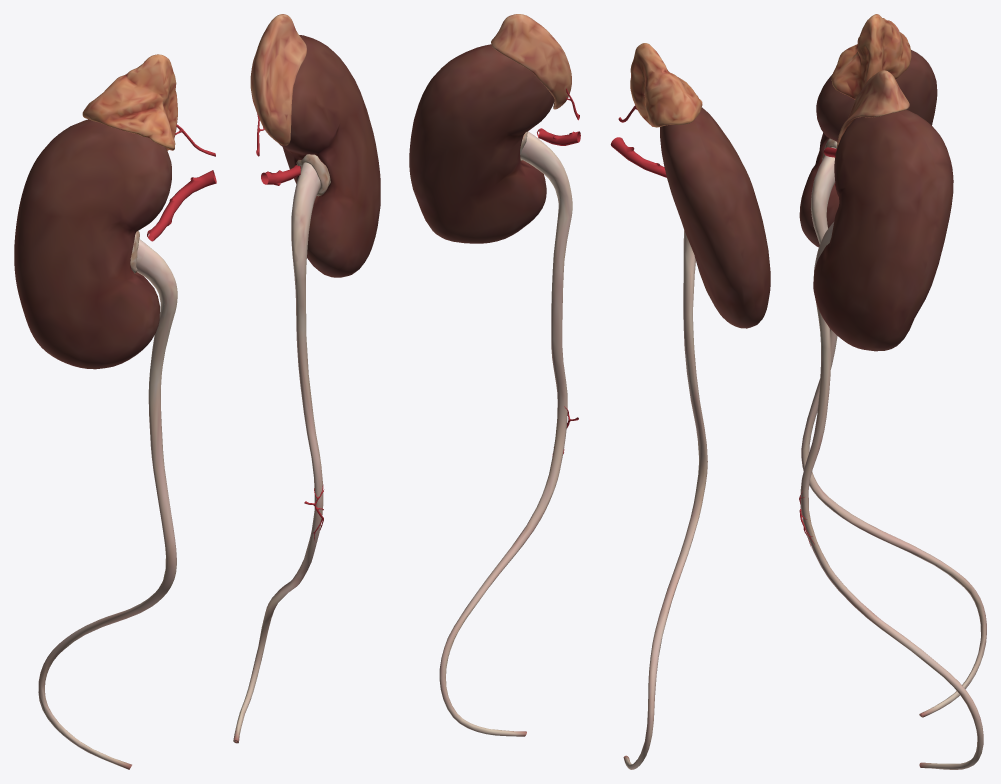
Rendered from kidney_cancer.glb.
The picture shows the model from 3 angles, left to right: view 1: azimuth 30°, elevation 25°; view 2: azimuth 150°, elevation 25°; view 3: azimuth 270°, elevation 25°; orthographic projection. The views are drawn at different scales.
Visible parts, largest first — view 1: Fibrous Capsule of Kidney (Anterior; Right) [S05095], Fibrous Capsule of Kidney (Anterior; Left) [S05074], Suprarenal Gland (Right) [S01629], Ureter (Right) [S05059], Suprarenal Gland (Left) [S01630], Ureter (Left) [S05103], Fibrous Capsule of Kidney (Posterior; Left) [S05075], Renal Pelvis (Anterior Part; Left) [S05068], Renal Pelvis (Anterior Part; Right) [S05083], Renal Artery (Right) [S03962], Fibrous Capsule of Kidney (Posterior; Right) [S05099]; view 2: Fibrous Capsule of Kidney (Posterior; Left) [S05075], Fibrous Capsule of Kidney (Posterior; Right) [S05099], Ureter (Left) [S05103], Fibrous Capsule of Kidney (Anterior; Right) [S05095], Ureter (Right) [S05059], Suprarenal Gland (Right) [S01629], Suprarenal Gland (Left) [S01630], Renal Pelvis (Posterior Part; Left) [S05065], Renal Artery (Right) [S03962]; view 3: Fibrous Capsule of Kidney (Anterior; Left) [S05074], Ureter (Left) [S05103], Fibrous Capsule of Kidney (Posterior; Right) [S05099], Suprarenal Gland (Right) [S01629], Ureter (Right) [S05059], Fibrous Capsule of Kidney (Posterior; Left) [S05075], Suprarenal Gland (Left) [S01630], Renal Pelvis (Posterior Part; Right) [S05086], Fibrous Capsule of Kidney (Anterior; Right) [S05095], Renal Pelvis (Anterior Part; Right) [S05083].
Boxes of the visible parts, x1,y1,x2,y2 form: Fibrous Capsule of Kidney (Anterior; Right) [S05095]: [14, 121, 169, 369]; Fibrous Capsule of Kidney (Anterior; Left) [S05074]: [291, 35, 380, 275]; Suprarenal Gland (Right) [S01629]: [82, 54, 177, 150]; Ureter (Right) [S05059]: [38, 330, 176, 769]; Suprarenal Gland (Left) [S01630]: [250, 14, 306, 145]; Ureter (Left) [S05103]: [233, 278, 323, 743]; Fibrous Capsule of Kidney (Posterior; Left) [S05075]: [279, 131, 348, 277]; Renal Pelvis (Anterior Part; Left) [S05068]: [294, 163, 320, 279]; Renal Pelvis (Anterior Part; Right) [S05083]: [136, 240, 177, 332]; Renal Artery (Right) [S03962]: [147, 170, 216, 241]; Fibrous Capsule of Kidney (Posterior; Right) [S05099]: [48, 119, 171, 368]; Fibrous Capsule of Kidney (Posterior; Left) [S05075]: [409, 46, 554, 243]; Fibrous Capsule of Kidney (Posterior; Right) [S05099]: [660, 120, 757, 328]; Ureter (Left) [S05103]: [439, 216, 571, 736]; Fibrous Capsule of Kidney (Anterior; Right) [S05095]: [694, 107, 770, 324]; Ureter (Right) [S05059]: [623, 271, 707, 769]; Suprarenal Gland (Right) [S01629]: [630, 43, 702, 127]; Suprarenal Gland (Left) [S01630]: [491, 14, 571, 109]; Renal Pelvis (Posterior Part; Left) [S05065]: [520, 132, 572, 218]; Renal Artery (Right) [S03962]: [610, 137, 666, 177]; Fibrous Capsule of Kidney (Anterior; Left) [S05074]: [813, 112, 937, 350]; Ureter (Left) [S05103]: [800, 302, 983, 769]; Fibrous Capsule of Kidney (Posterior; Right) [S05099]: [800, 50, 937, 247]; Suprarenal Gland (Right) [S01629]: [831, 14, 911, 99]; Ureter (Right) [S05059]: [801, 329, 986, 717]; Fibrous Capsule of Kidney (Posterior; Left) [S05075]: [871, 109, 953, 351]; Suprarenal Gland (Left) [S01630]: [837, 70, 909, 148]; Renal Pelvis (Posterior Part; Right) [S05086]: [815, 148, 835, 241]; Fibrous Capsule of Kidney (Anterior; Right) [S05095]: [799, 74, 832, 223]; Renal Pelvis (Anterior Part; Right) [S05083]: [811, 147, 833, 244].
Size of the model in its own units: 6.34 by 12.47 by 3.
